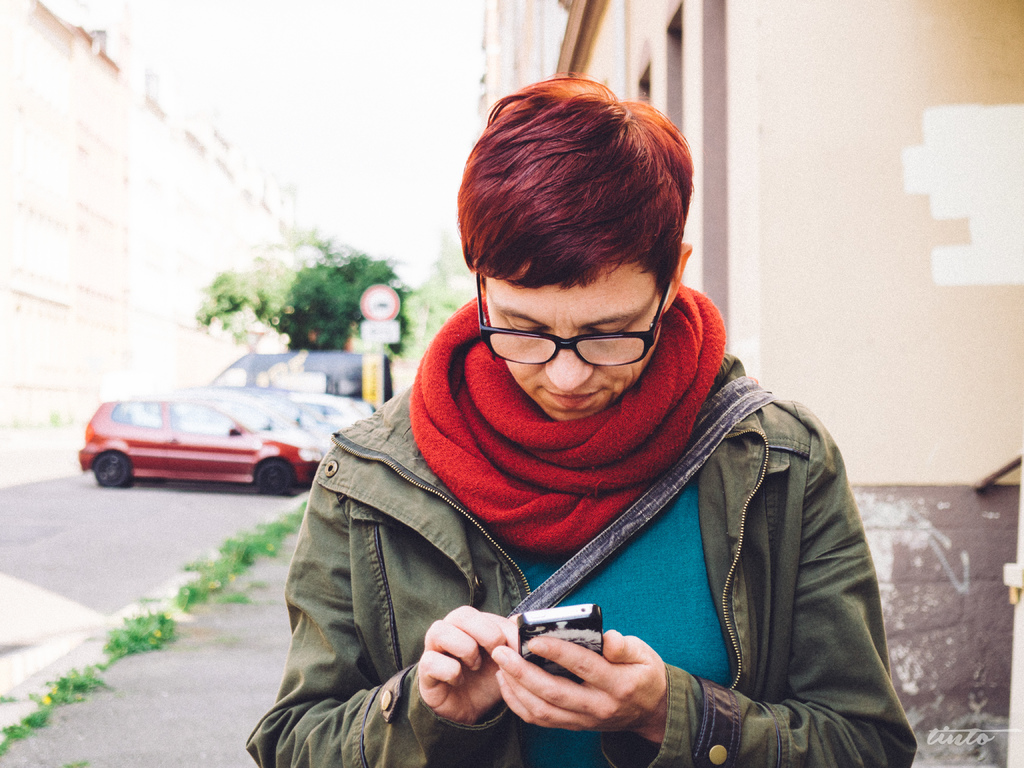cars: (80, 383, 388, 494)
